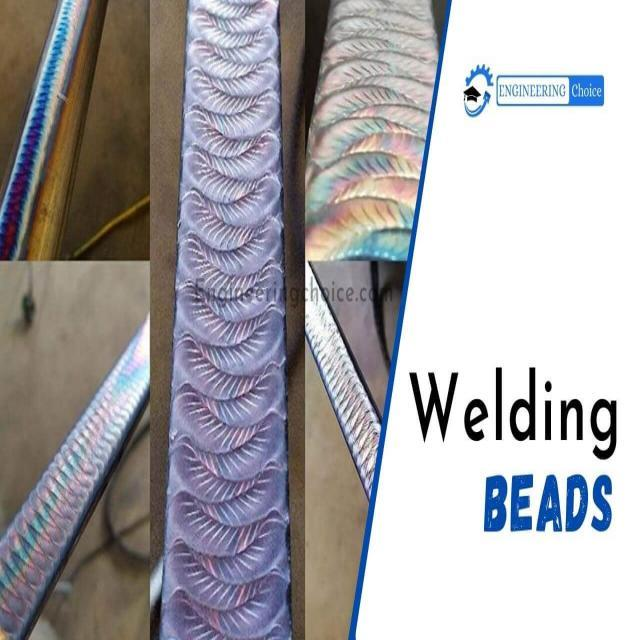Good Weld: (164, 4, 290, 638), (0, 384, 113, 636), (320, 2, 407, 257), (0, 96, 34, 258), (38, 7, 76, 149)
